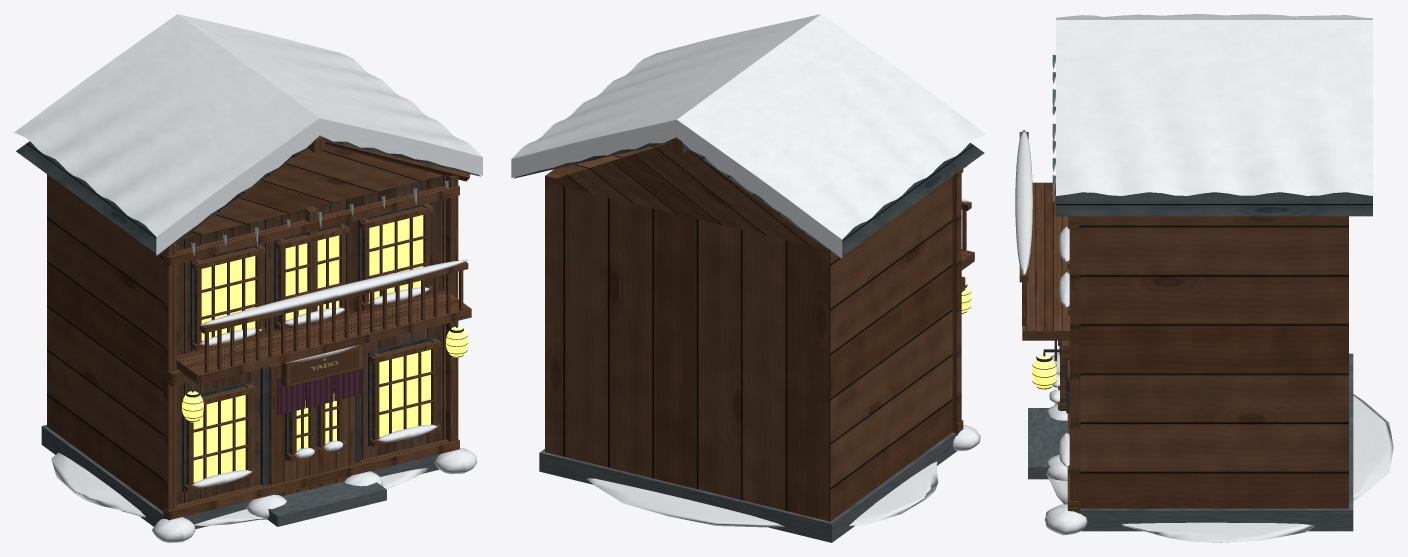
File: nyanisyarud-snow-inn.glb
3 views of the same model, side by side, from view 1: azimuth 30°, elevation 25°; view 2: azimuth 150°, elevation 25°; view 3: azimuth 270°, elevation 25° (orthographic). The views are drawn at different scales.
Visible parts, largest first — view 1: 03 Snow village two storey inn | front +Z; view 2: 03 Snow village two storey inn | front +Z; view 3: 03 Snow village two storey inn | front +Z.
Boxes of the visible parts, <box> form: 03 Snow village two storey inn | front +Z: <box>14,14,482,542</box>; 03 Snow village two storey inn | front +Z: <box>511,14,985,542</box>; 03 Snow village two storey inn | front +Z: <box>1015,14,1393,542</box>.
Bounding box in the file's own units: 5.08 × 5.43 × 4.29.
10 materials, 10 textured.
